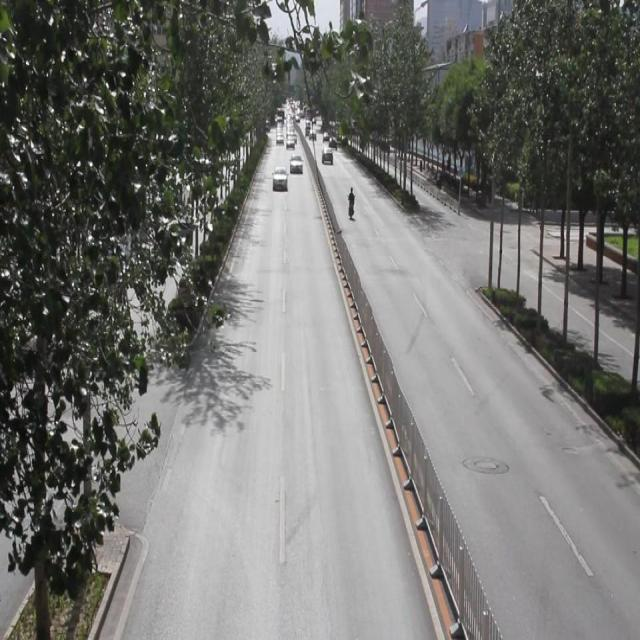car: (272, 165, 287, 189), (289, 154, 303, 174)
